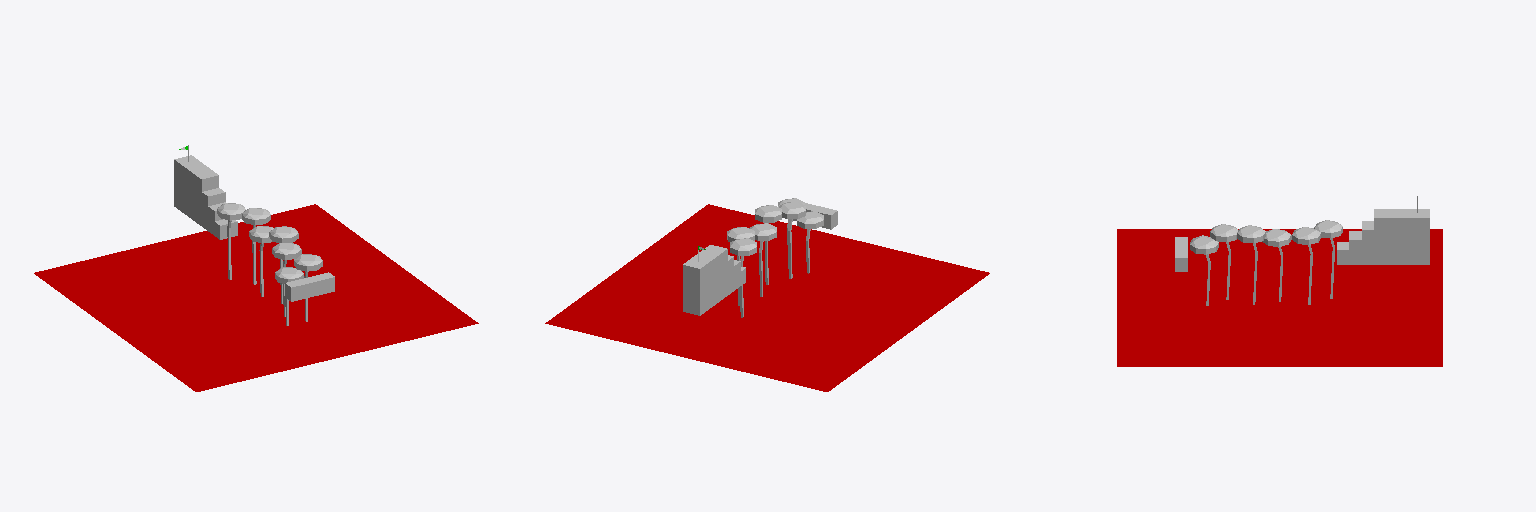
The picture shows the model from 3 angles: view 1: azimuth 30°, elevation 25°; view 2: azimuth 150°, elevation 25°; view 3: azimuth 270°, elevation 25°; orthographic projection.
Parts seen in each view (by area): view 1: Cube.001; view 2: Cube.001; view 3: Cube.001.
Boxes of the visible parts, x1=… form: Cube.001: x1=34, y1=155, x2=478, y2=391; Cube.001: x1=545, y1=198, x2=989, y2=391; Cube.001: x1=1117, y1=209, x2=1442, y2=366.
Size of the model in its own units: 136 by 55.79 by 136.
Materials: 26 (2 with a texture image).